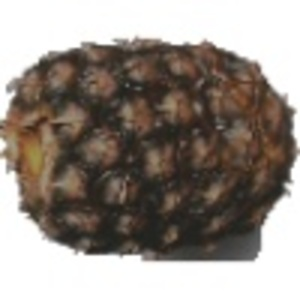abacaxi: (1, 32, 296, 253)
